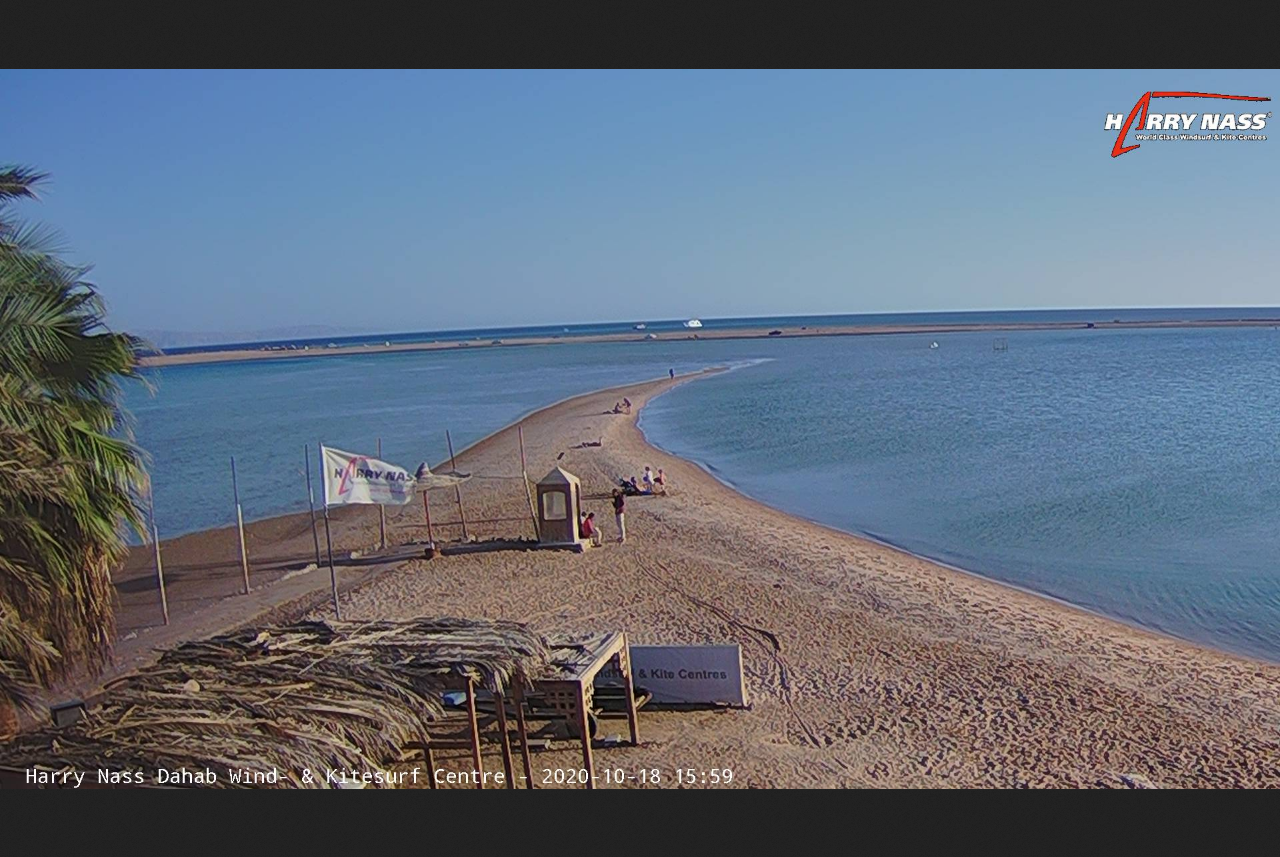yes: (317, 443, 418, 507)
